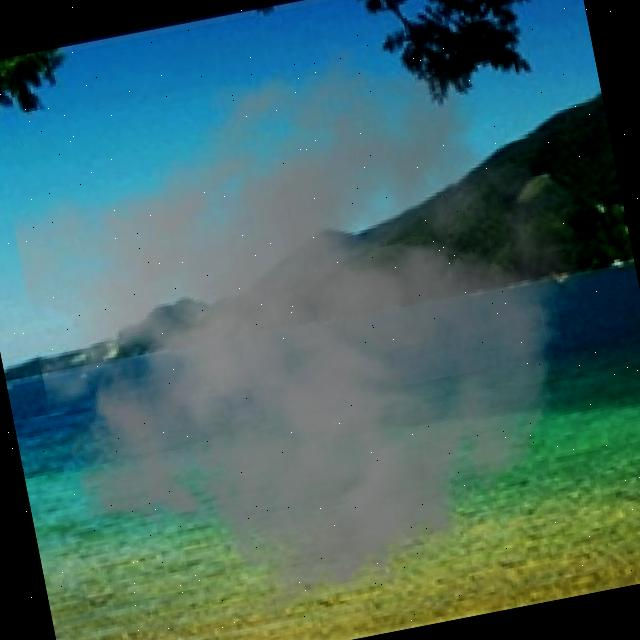smoke: (0, 4, 640, 640)
